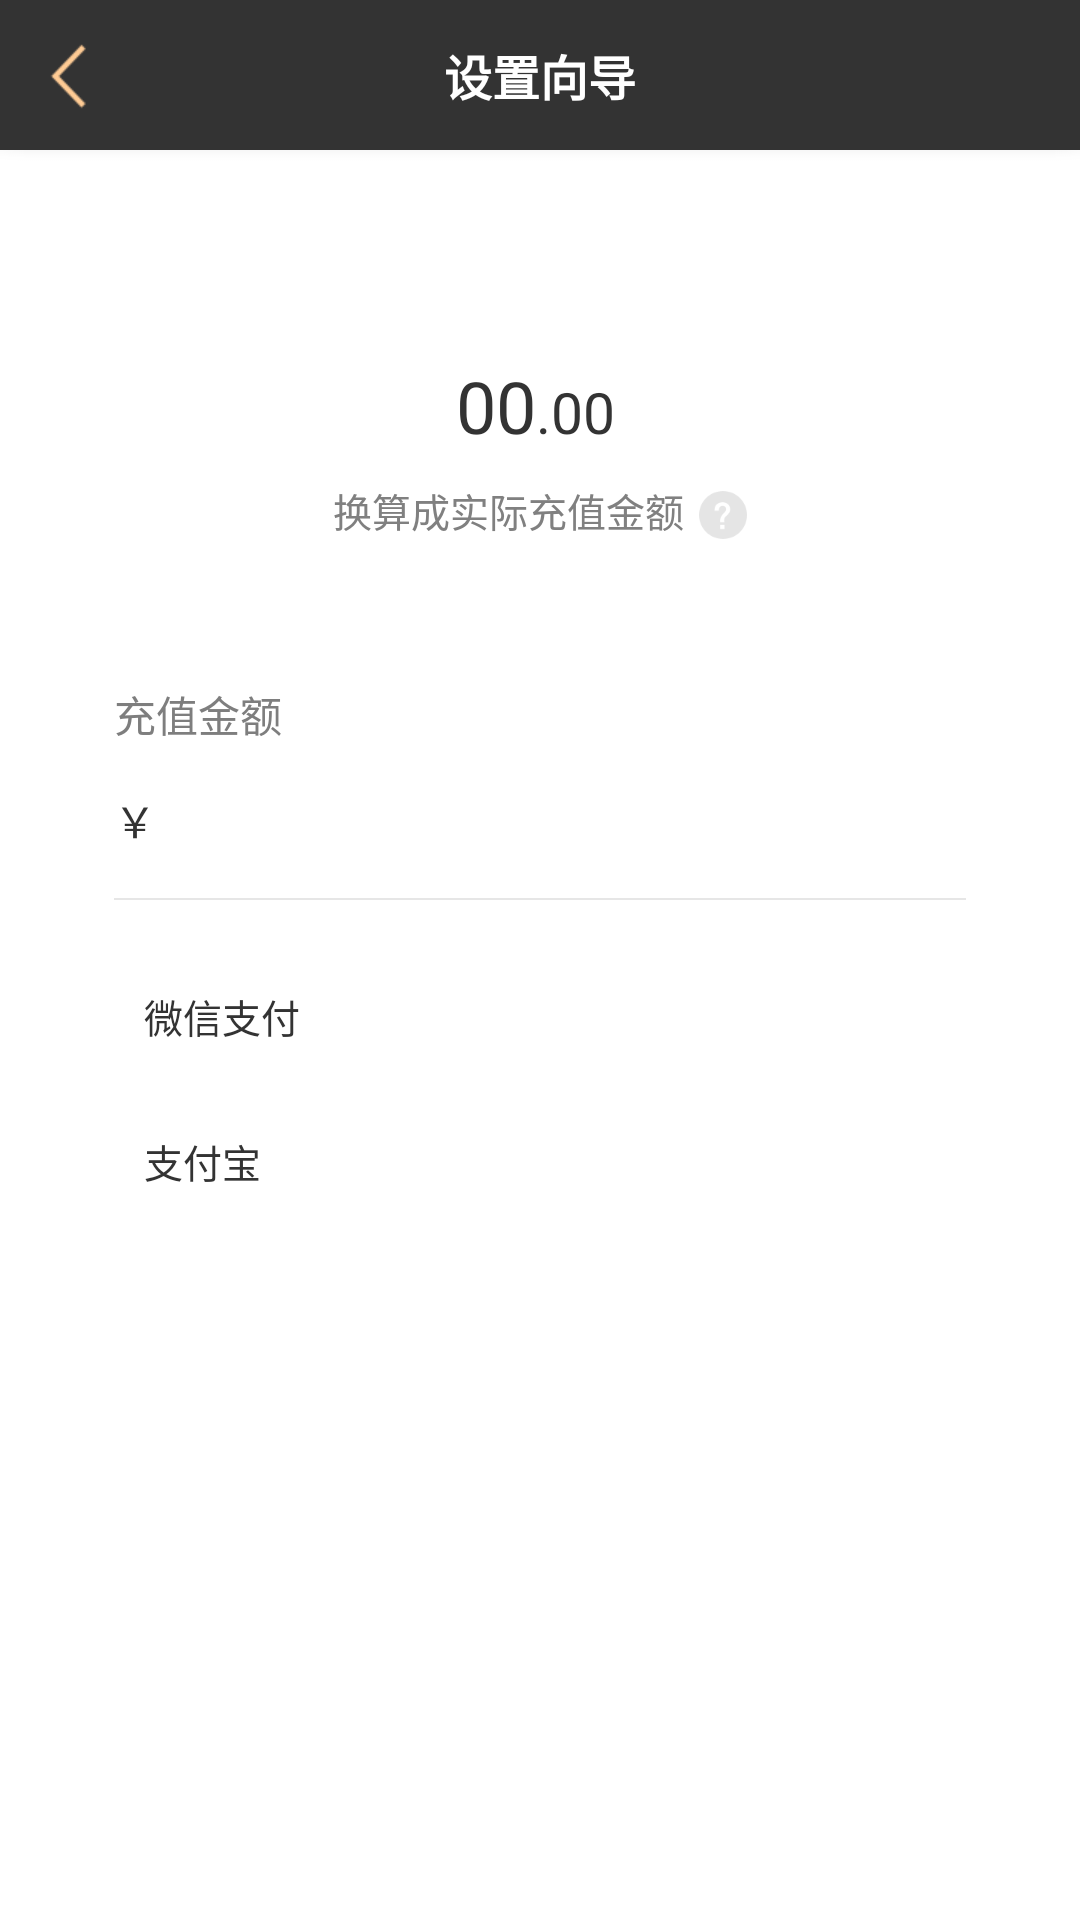

Icon click points for this 1080 × 1920 phone screenshot, format [x,y]:
left back: [68,76]
tishi: [723,515]
